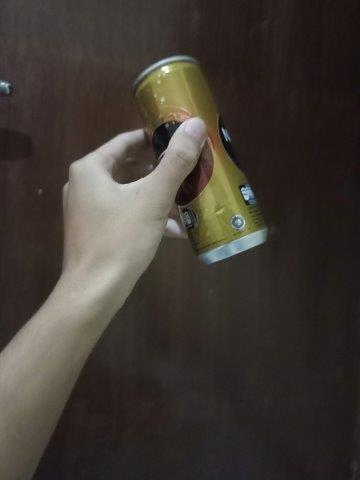kaleng: (131, 55, 268, 265)
